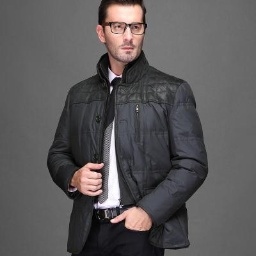face: (95, 1, 146, 64)
